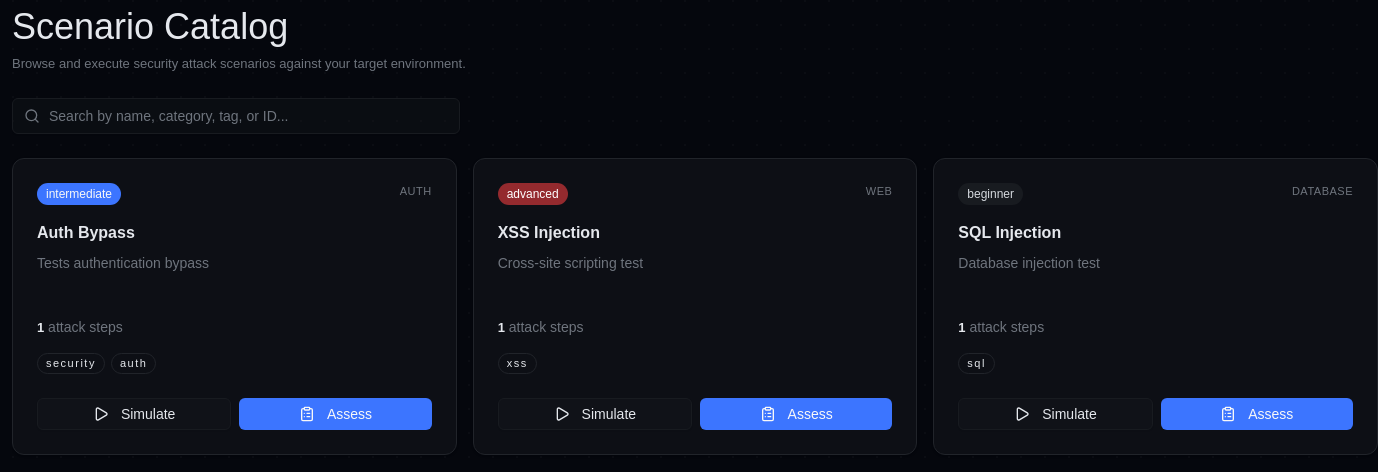
ScenariosPage › filters scenarios by tag
Type "security" into the field with placeholder "Search by name, category, tag, or ID..." at x=236, y=116, box x1=12 y1=98 x2=460 y2=134
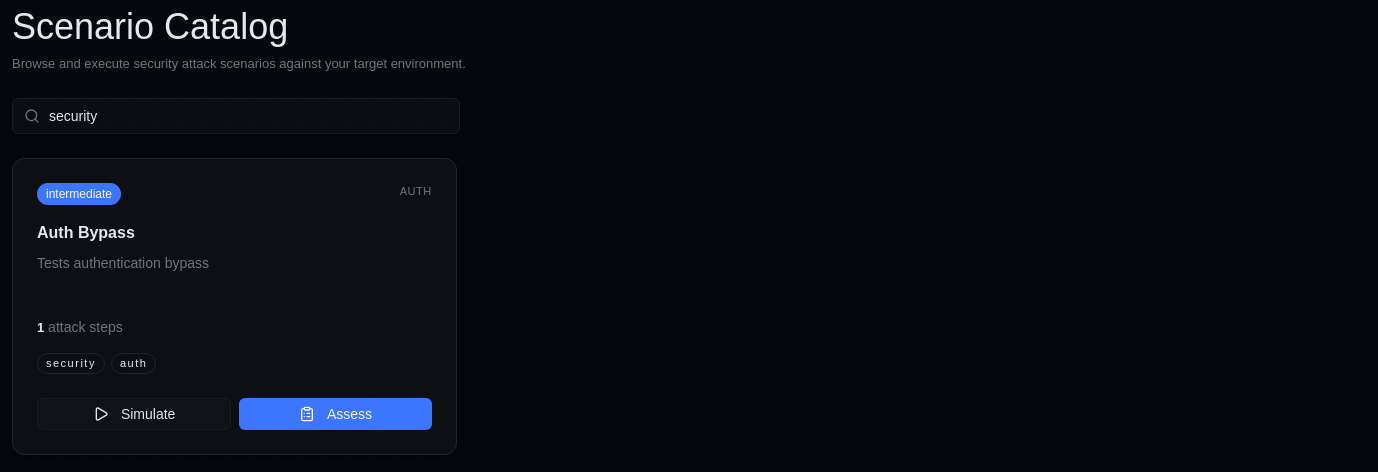
Expected: the text "Auth Bypass" is shown, x1=37 y1=224 x2=135 y2=240
Result: the text "XSS Injection" is gone
